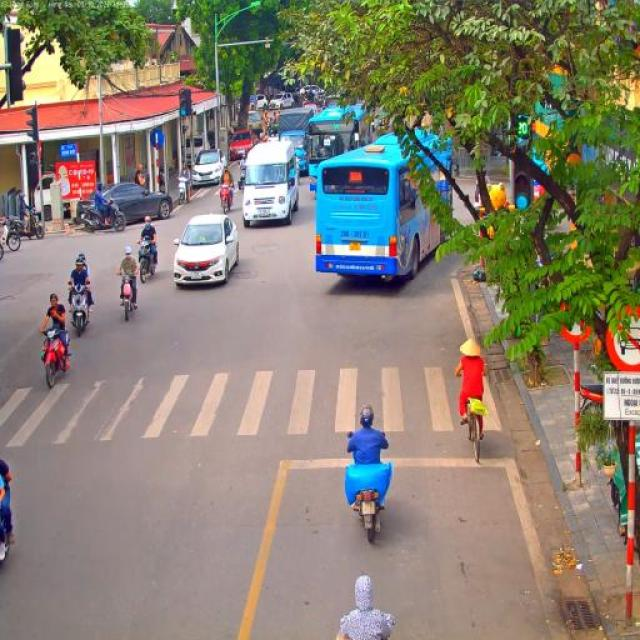bus: (314, 127, 454, 282), (307, 104, 375, 198), (242, 138, 300, 228)
car: (173, 212, 239, 288), (96, 182, 173, 226), (191, 148, 228, 187), (228, 130, 253, 159), (269, 92, 297, 111), (296, 84, 312, 100), (255, 94, 270, 110)
motorcycle: (346, 431, 388, 542), (39, 326, 72, 390), (83, 199, 127, 233), (69, 282, 91, 336), (6, 212, 45, 240), (118, 272, 138, 322), (136, 238, 156, 284), (574, 384, 604, 412), (0, 219, 21, 250), (0, 514, 12, 564), (220, 183, 234, 214), (177, 176, 189, 205), (238, 166, 246, 192)
truck: (276, 106, 315, 178), (34, 176, 68, 222), (246, 110, 264, 142)
